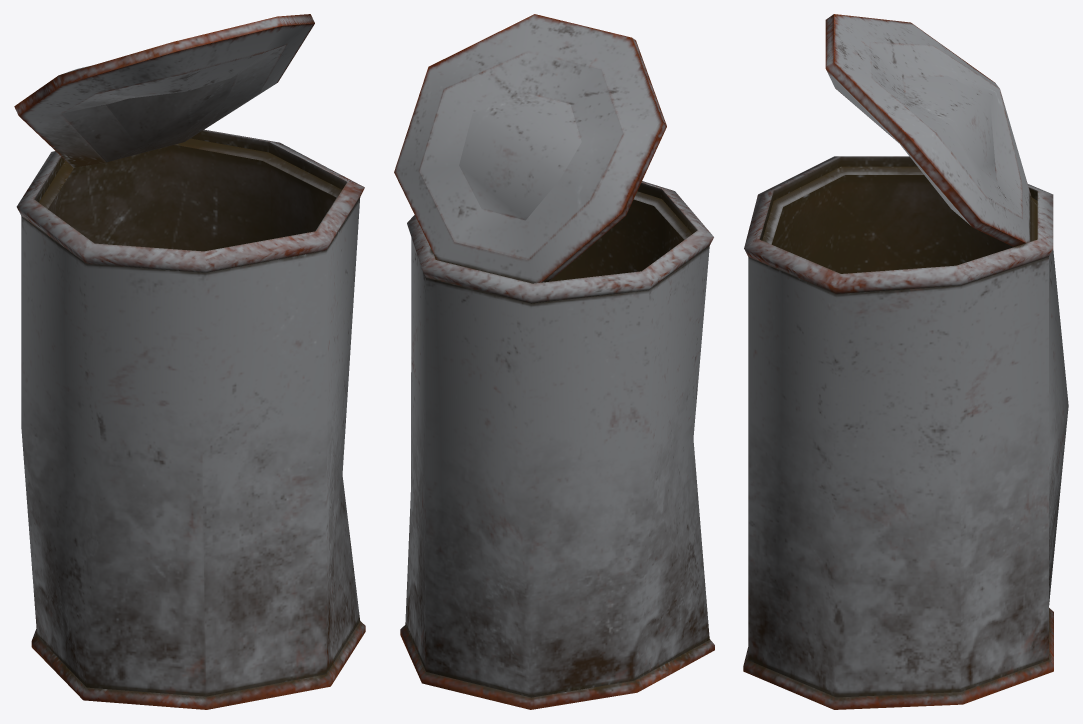
The model's file is long_can.dae.
The picture shows the model from 3 angles, left to right: view 1: azimuth 30°, elevation 25°; view 2: azimuth 150°, elevation 25°; view 3: azimuth 270°, elevation 25°; orthographic projection. The views are drawn at different scales.
Visible parts, largest first — view 1: Can_01_GEO; view 2: Can_01_GEO; view 3: Can_01_GEO.
Part boxes in pixels (<box>): Can_01_GEO: <box>14,14,365,709</box>; Can_01_GEO: <box>394,14,714,709</box>; Can_01_GEO: <box>743,14,1068,709</box>.
Size of the model in its own units: 0.0772 by 0.0809 by 0.1663.
1 material, 1 textured.
